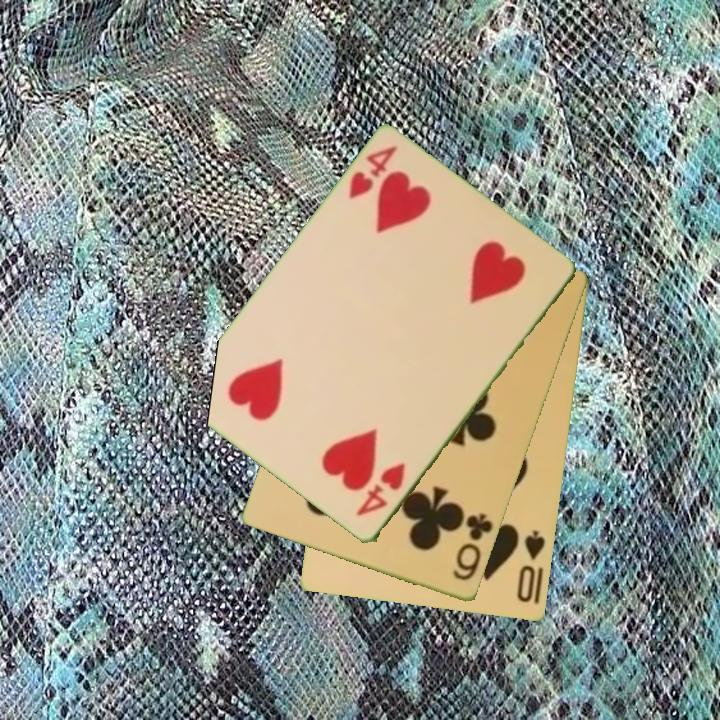10s: (513, 527, 549, 606)
4h: (352, 460, 409, 520), (345, 142, 401, 203)
6c: (449, 510, 496, 585)
